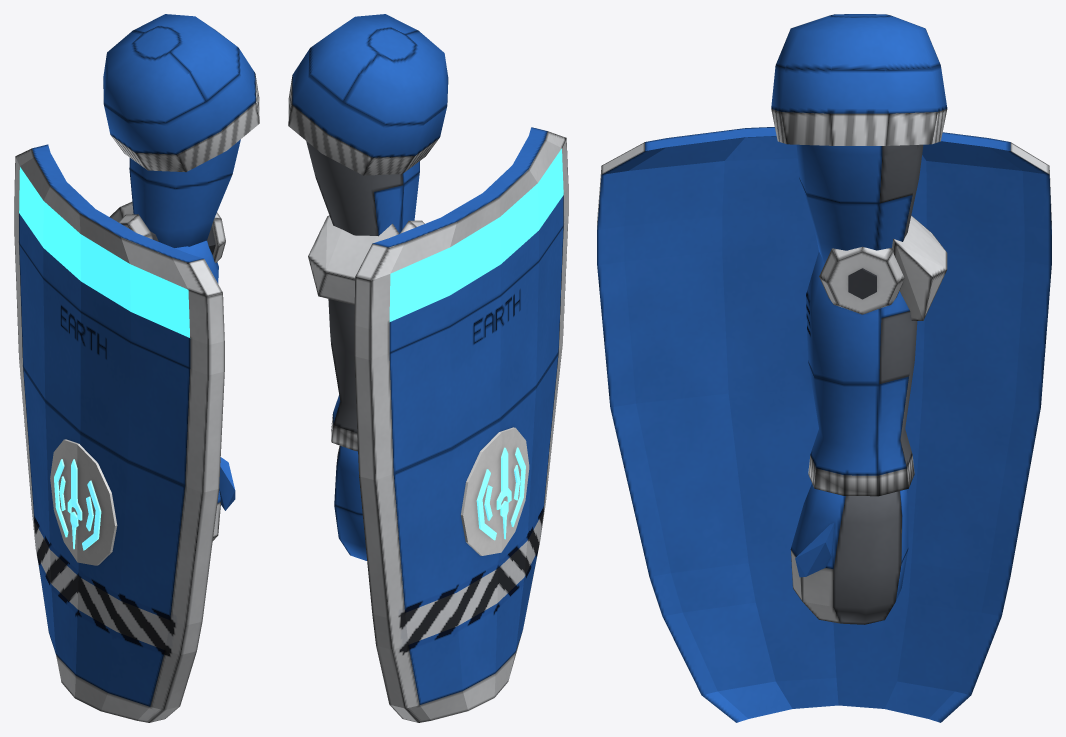
The model's file is LeftShieldArmX.glb.
3 renders of one model, left to right at view 1: azimuth 30°, elevation 25°; view 2: azimuth 150°, elevation 25°; view 3: azimuth 270°, elevation 25°, orthographic. The views are drawn at different scales.
Parts seen in each view (by area): view 1: LeftShieldArmX_Fore, LeftShieldArmX_Upper, LeftShieldArmX_Fist; view 2: LeftShieldArmX_Fore, LeftShieldArmX_Upper, LeftShieldArmX_Fist; view 3: LeftShieldArmX_Fore, LeftShieldArmX_Upper, LeftShieldArmX_Fist.
Part boxes in pixels (box(x1,y1,x2,y2)): LeftShieldArmX_Fore: box(14, 144, 225, 722); LeftShieldArmX_Upper: box(103, 14, 259, 247); LeftShieldArmX_Fist: box(212, 457, 235, 540); LeftShieldArmX_Fore: box(308, 127, 568, 722); LeftShieldArmX_Upper: box(288, 14, 448, 236); LeftShieldArmX_Fist: box(334, 445, 366, 560); LeftShieldArmX_Fore: box(597, 127, 1051, 722); LeftShieldArmX_Upper: box(771, 14, 947, 263); LeftShieldArmX_Fist: box(790, 483, 908, 624).
Bounding box in the file's own units: 5.84 × 18.85 × 10.45.
Materials: 8 (6 with a texture image).
